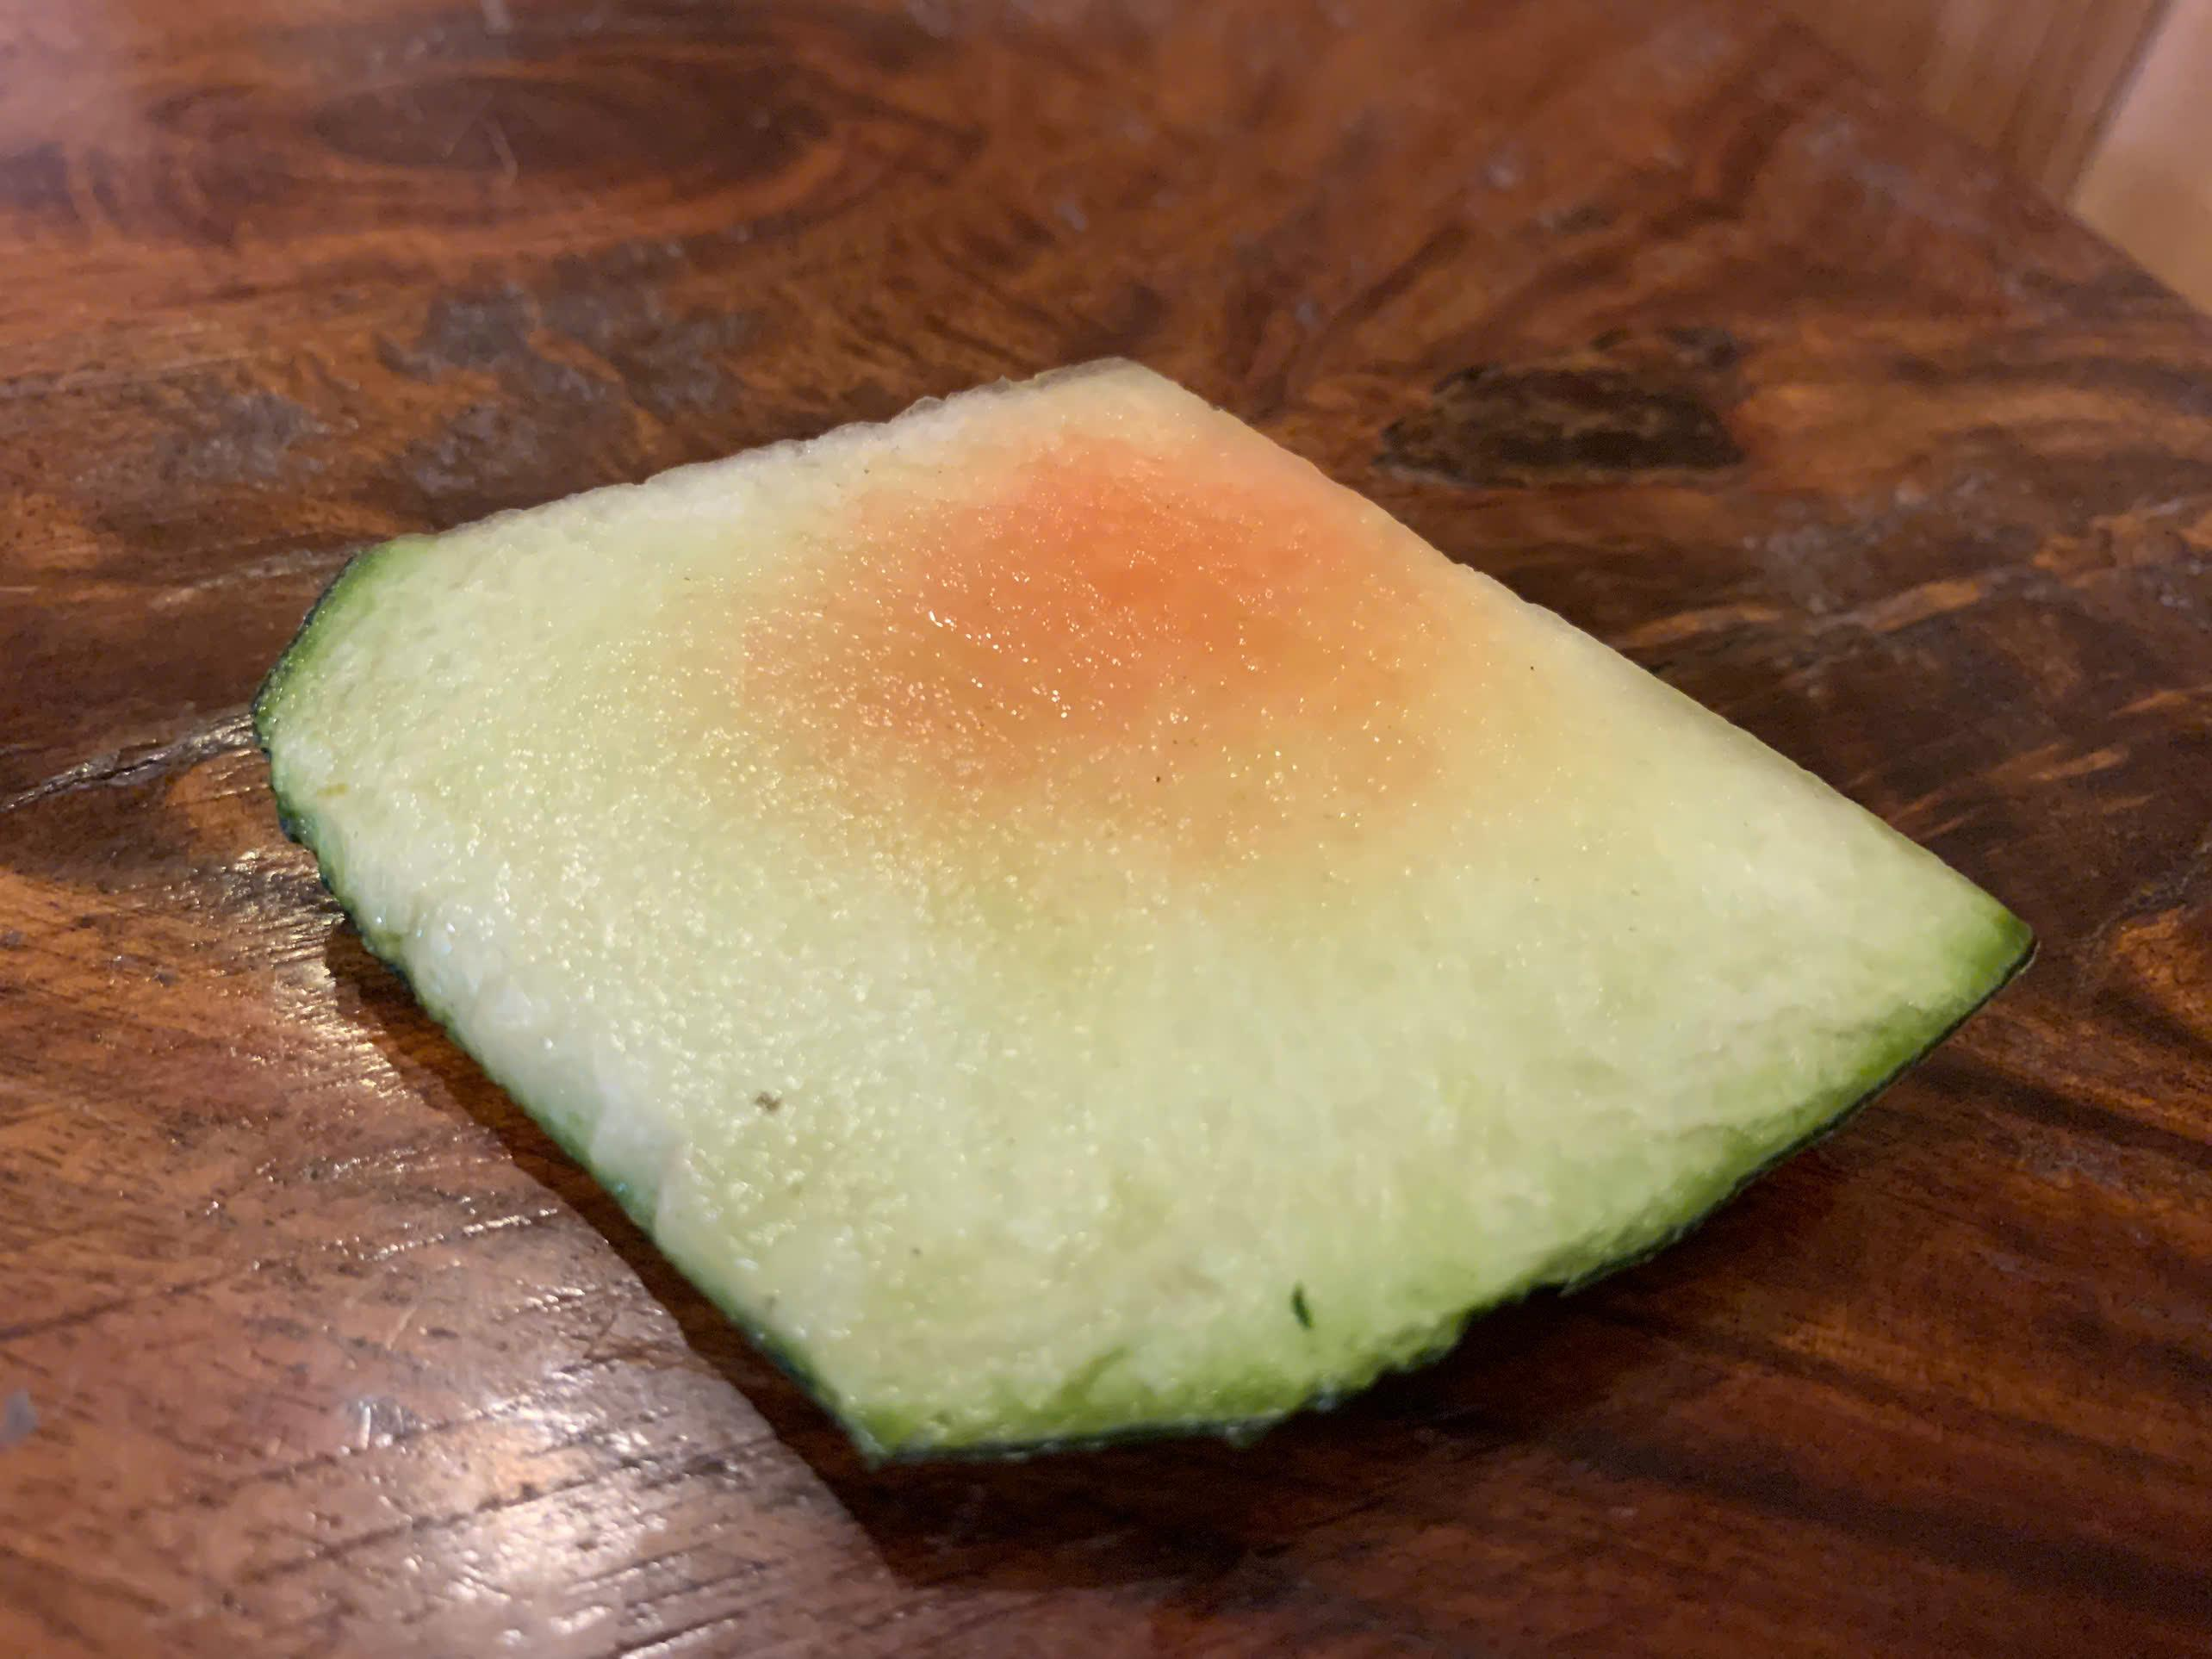Huu co: (265, 354, 2027, 1448)
